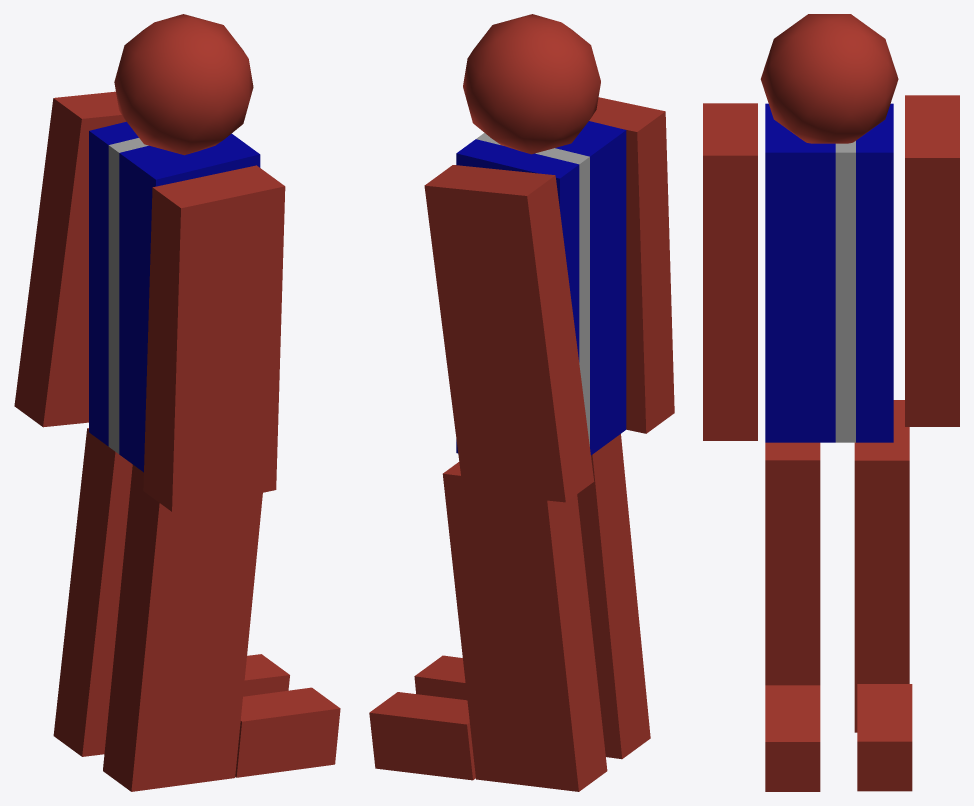
The model's file is player_000078.obj.
3 renders of one model, left to right at view 1: azimuth 30°, elevation 25°; view 2: azimuth 150°, elevation 25°; view 3: azimuth 270°, elevation 25°, orthographic. The views are drawn at different scales.
Visible parts, largest first — view 1: Cube.005, Cube.001, Cube, Cube.006, Cube.002, Icosphere, Cube.003, Cube.004; view 2: Cube.006, Cube.002, Cube, Cube.005, Icosphere, Cube.001, Cube.004, Cube.003; view 3: Cube, Cube.005, Cube.006, Cube.002, Icosphere, Cube.001, Cube.004, Cube.003.
Boxes of the visible parts, x1=… form: Cube.005: x1=143, y1=165, x2=285, y2=511; Cube.001: x1=103, y1=464, x2=262, y2=791; Cube: x1=89, y1=121, x2=260, y2=472; Cube.006: x1=14, y1=91, x2=126, y2=427; Cube.002: x1=53, y1=428, x2=132, y2=756; Icosphere: x1=114, y1=14, x2=253, y2=155; Cube.003: x1=235, y1=687, x2=340, y2=777; Cube.004: x1=243, y1=654, x2=289, y2=696; Cube.006: x1=424, y1=165, x2=594, y2=502; Cube.002: x1=442, y1=462, x2=607, y2=791; Cube: x1=456, y1=121, x2=626, y2=455; Cube.005: x1=589, y1=97, x2=674, y2=433; Icosphere: x1=463, y1=14, x2=600, y2=154; Cube.001: x1=577, y1=434, x2=650, y2=759; Cube.004: x1=369, y1=692, x2=475, y2=780; Cube.003: x1=414, y1=655, x2=467, y2=700; Cube: x1=765, y1=103, x2=893, y2=442; Cube.005: x1=703, y1=103, x2=757, y2=440; Cube.006: x1=905, y1=95, x2=959, y2=426; Cube.002: x1=854, y1=400, x2=909, y2=732; Icosphere: x1=760, y1=14, x2=898, y2=143; Cube.001: x1=765, y1=442, x2=820, y2=685; Cube.004: x1=857, y1=684, x2=912, y2=791; Cube.003: x1=765, y1=685, x2=820, y2=791.
Bounding box in the file's own units: 0.8883 × 2.83 × 0.9137.
